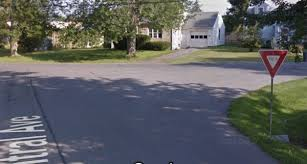yield: (257, 47, 290, 80)
